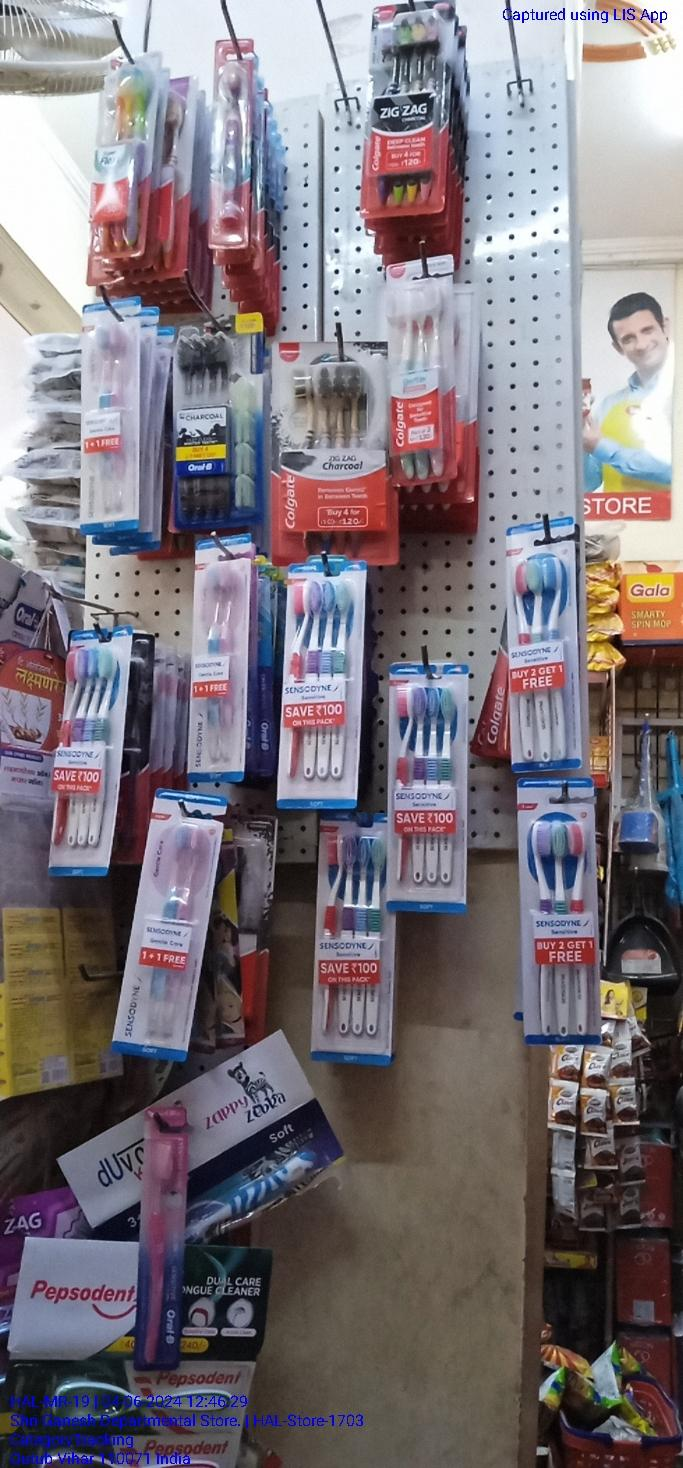14: (284, 568, 362, 811), (392, 666, 469, 911), (317, 817, 390, 1065), (52, 628, 119, 881)
7: (130, 785, 207, 1065), (193, 536, 252, 784), (80, 301, 143, 530)
liquid soap: (272, 341, 390, 564), (372, 5, 444, 219)
